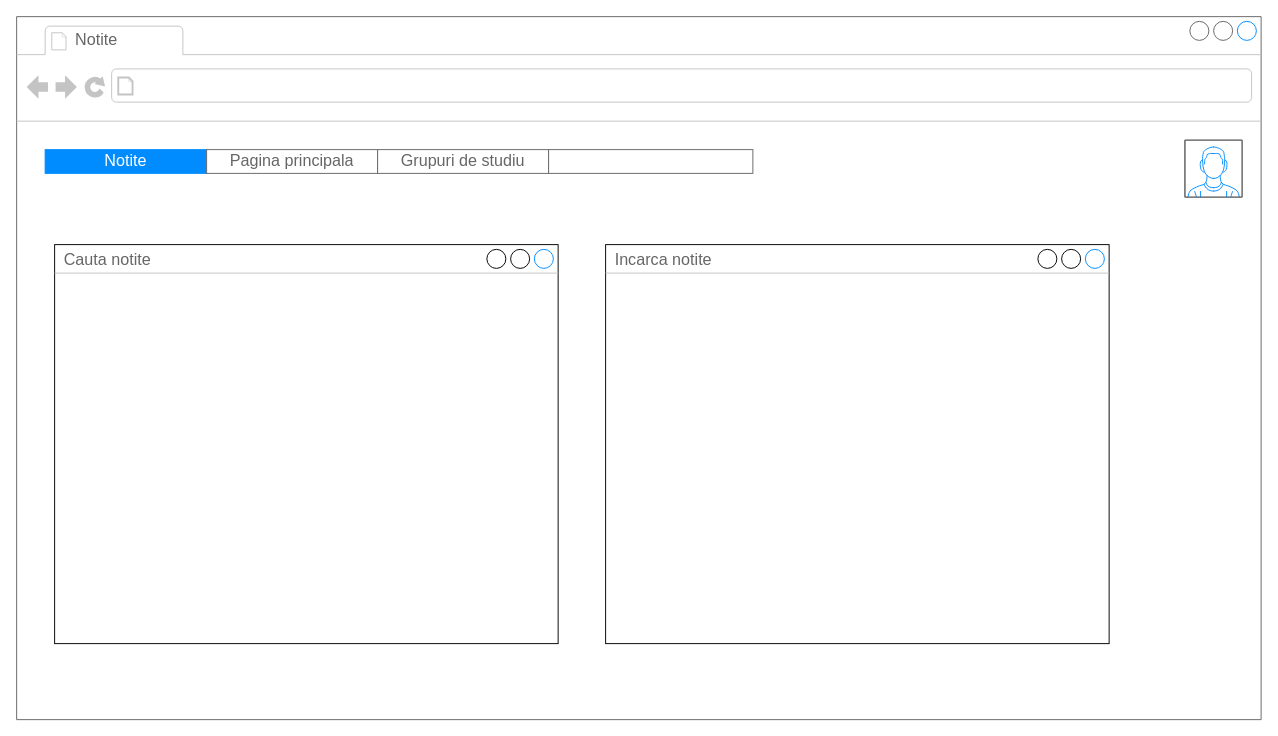
This 1278x736 diagram has some shape labels left out. The shapes that lost their labels are listed below. From the top down, each one's centre as x and y in pixels, then its label:
At point (258, 85): "https://www.notiteonline.com".
At point (650, 161): "Intrebari si raspunsuri".
